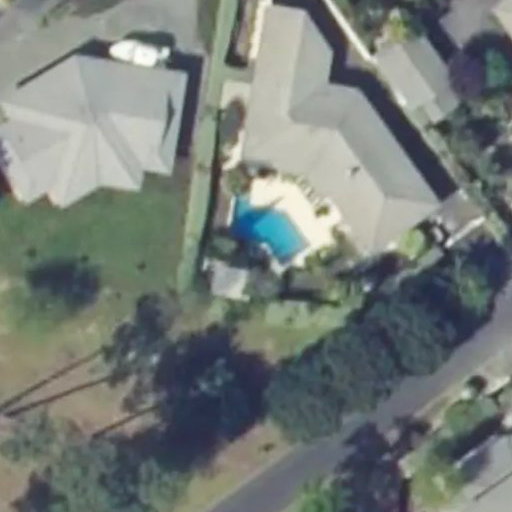pool: (231, 197, 309, 265)
